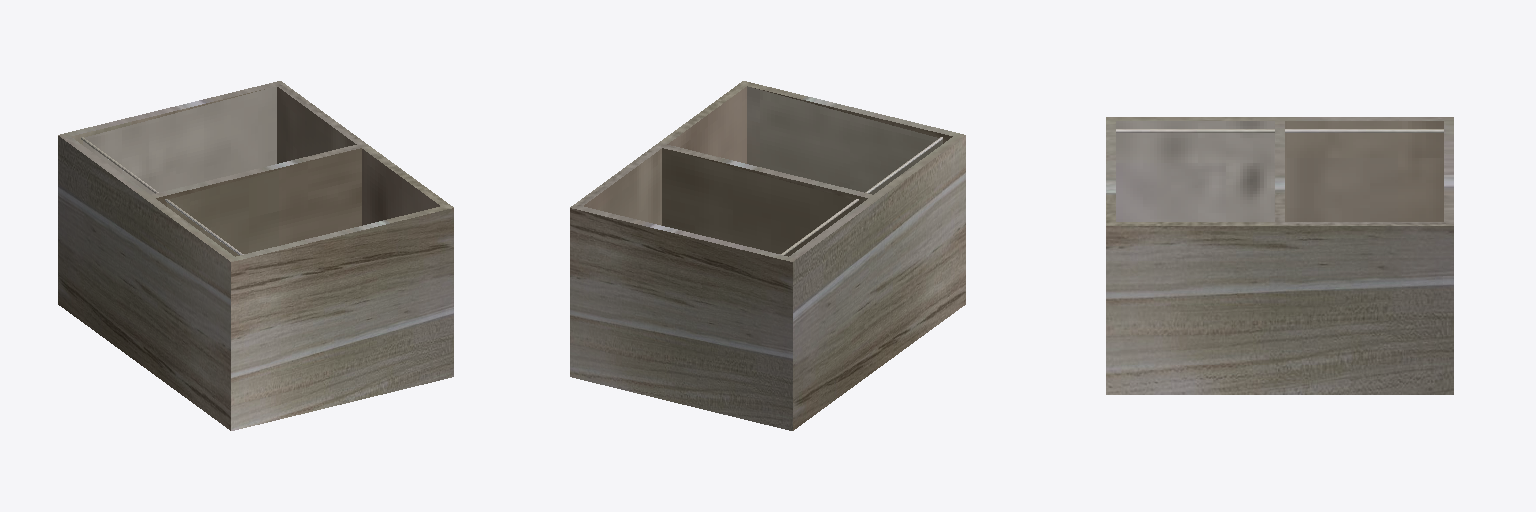
3 views of the same model, side by side, from view 1: azimuth 30°, elevation 25°; view 2: azimuth 150°, elevation 25°; view 3: azimuth 270°, elevation 25° (orthographic).
Parts seen in each view (by area): view 1: Link1.001; view 2: Link1.001; view 3: Link1.001.
Boxes of the visible parts, x1,y1,x2,y2 form: Link1.001: [58, 81, 453, 430]; Link1.001: [570, 81, 965, 430]; Link1.001: [1106, 117, 1453, 394].
Size of the model in its own units: 0.4 by 0.29 by 0.54.
Materials: 1 (1 with a texture image).